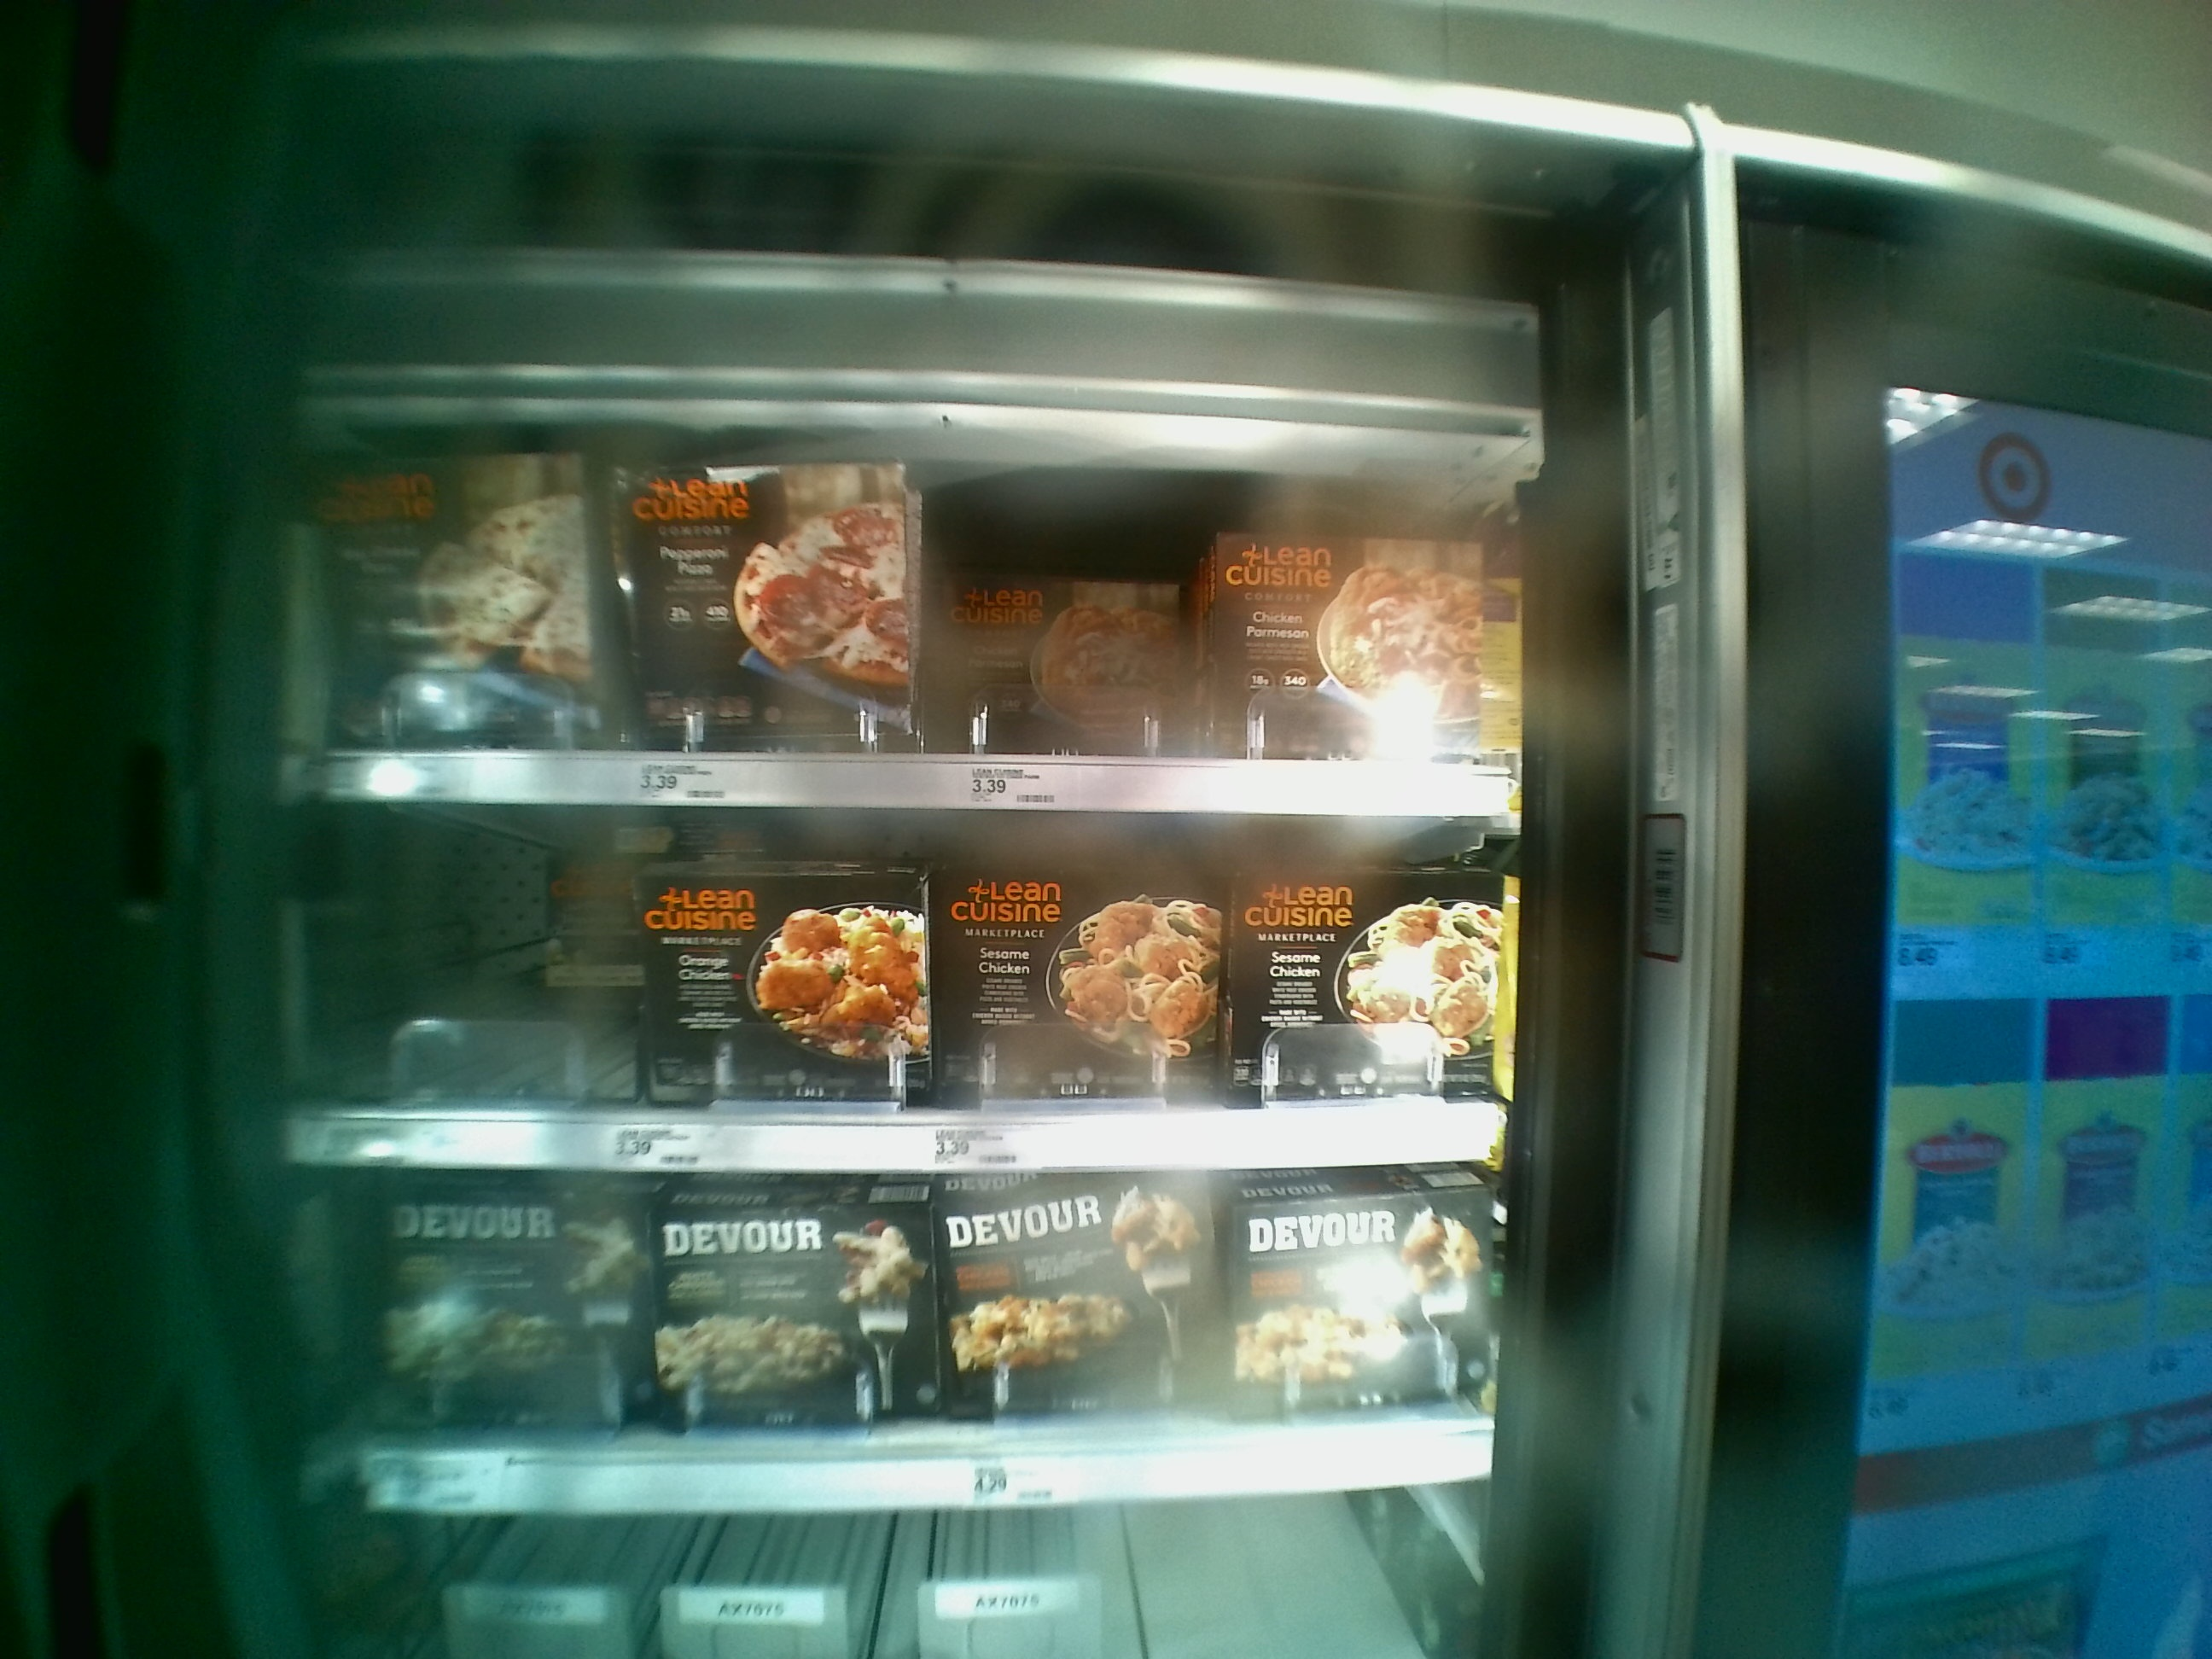shelf: (270, 362, 1515, 809), (279, 802, 1501, 1173), (291, 1171, 1498, 1513)
